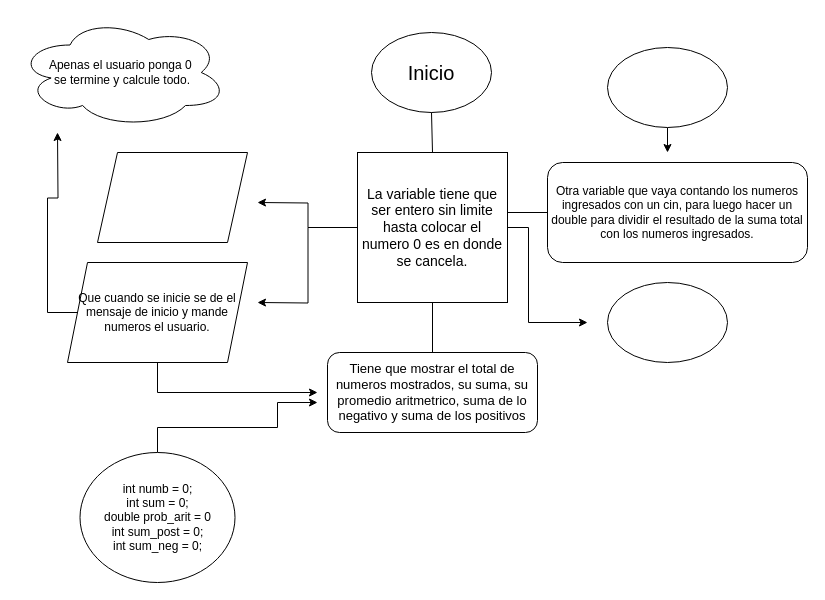
The diagram is 825 pixels wide and 600 high, and some of its shapes have lost their labels. Here are the shapes that lost their labels. From the top down, the box of each, then its label:
(606, 46, 728, 128): n >= 0
(96, 152, 248, 242): Hacer una variable para cada caso.
(606, 282, 728, 362): n != 0
